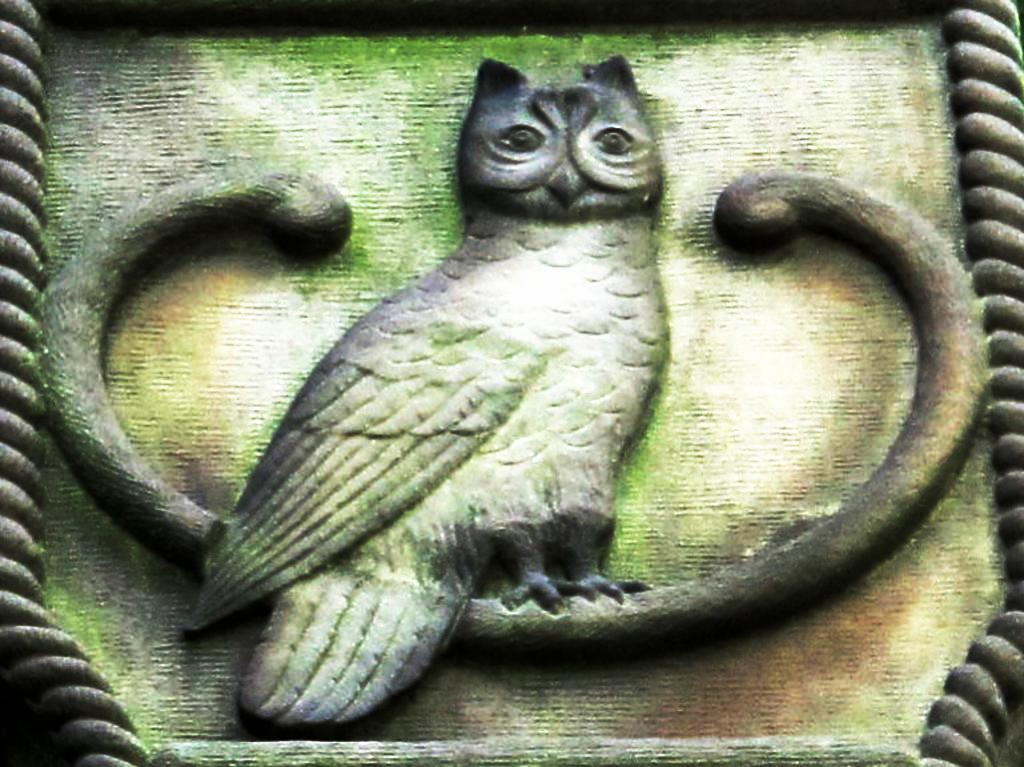Owl: (180, 51, 670, 726)
